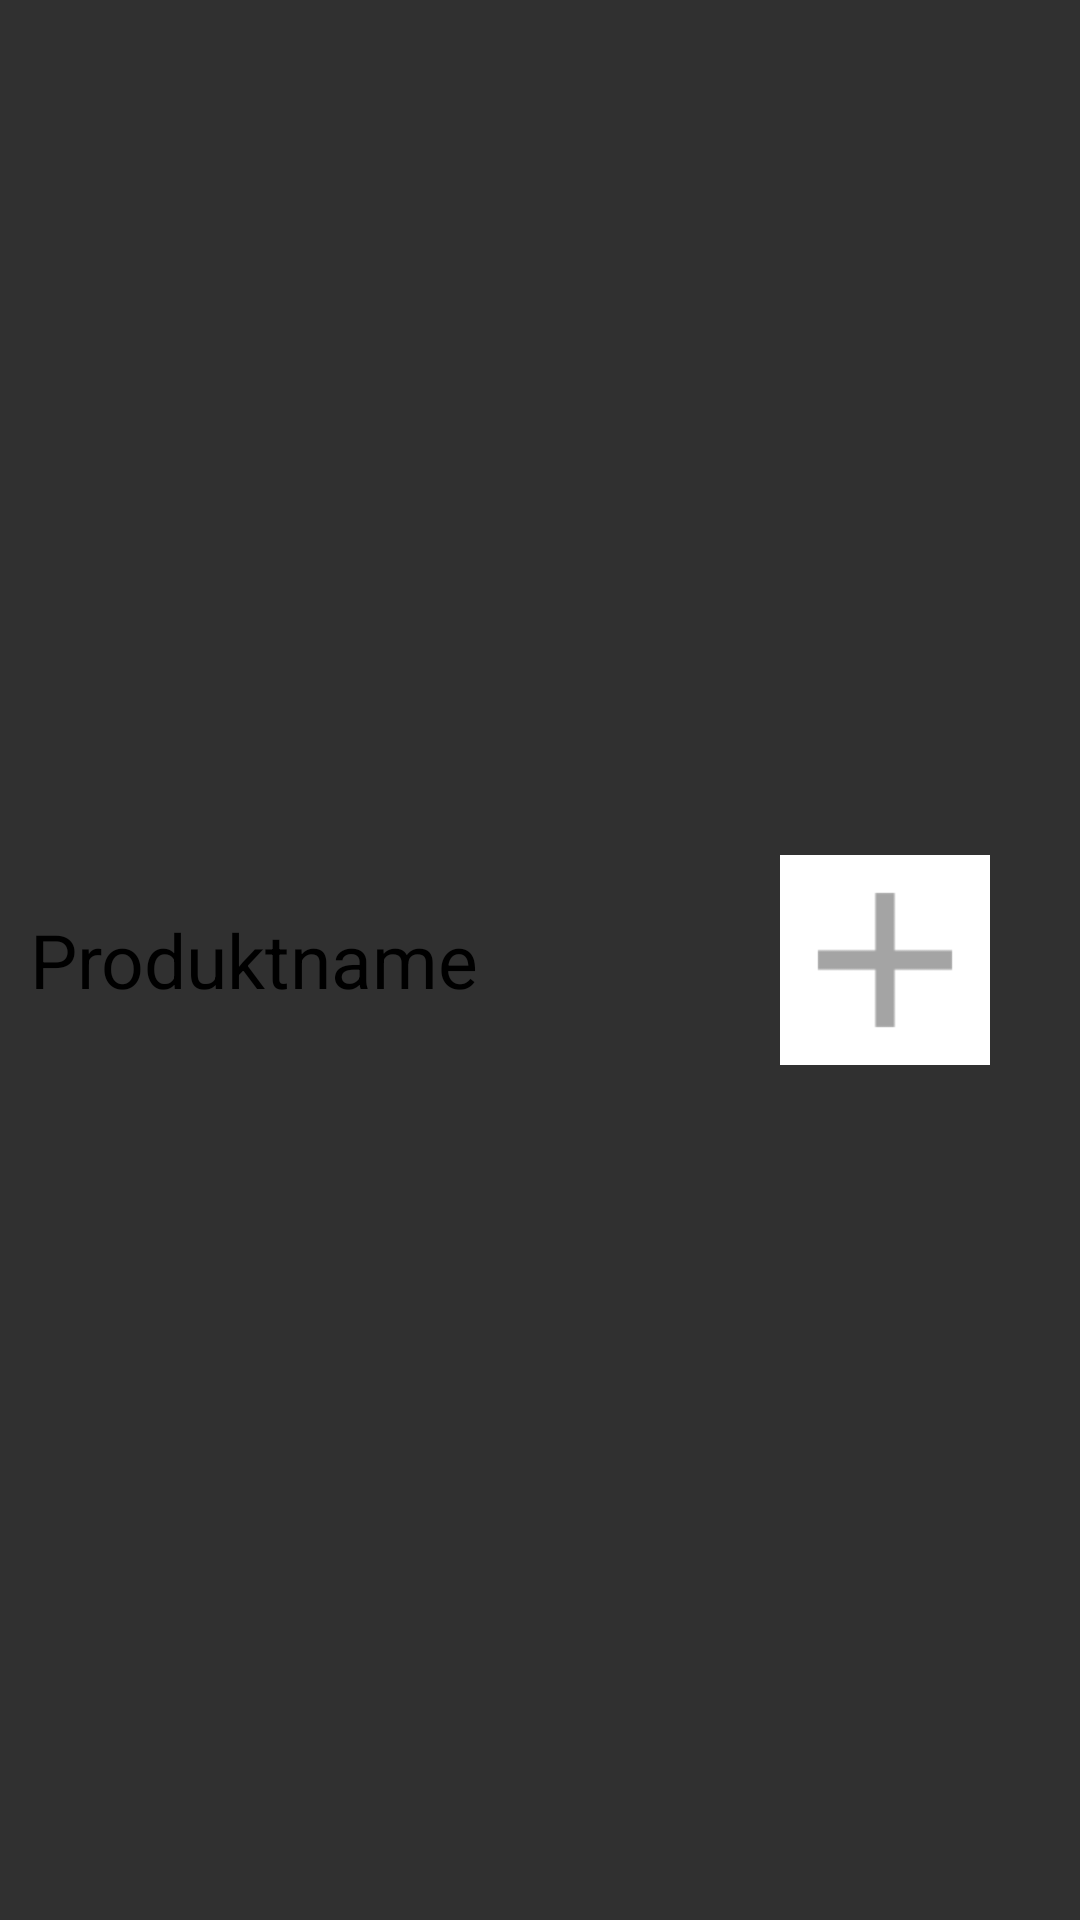

Screen size 1080x1920. Icon name, then its box in pixels as bbox=(x1, y1, x2, y2):
add: bbox=(780, 855, 990, 1065)
